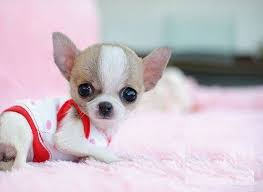chihuahua: (1, 25, 181, 170)
